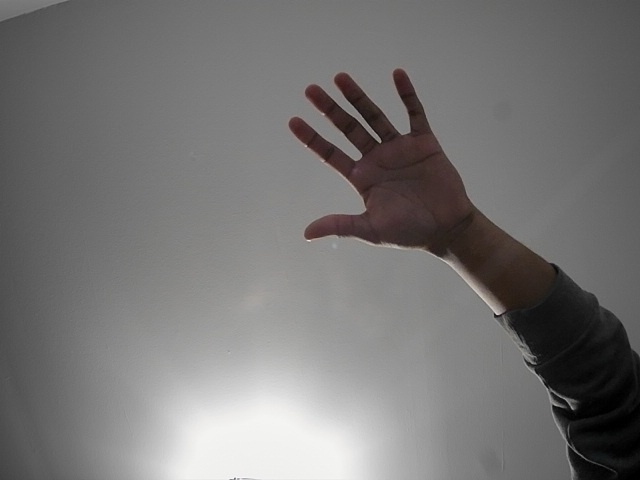Hello: (261, 55, 491, 279)
